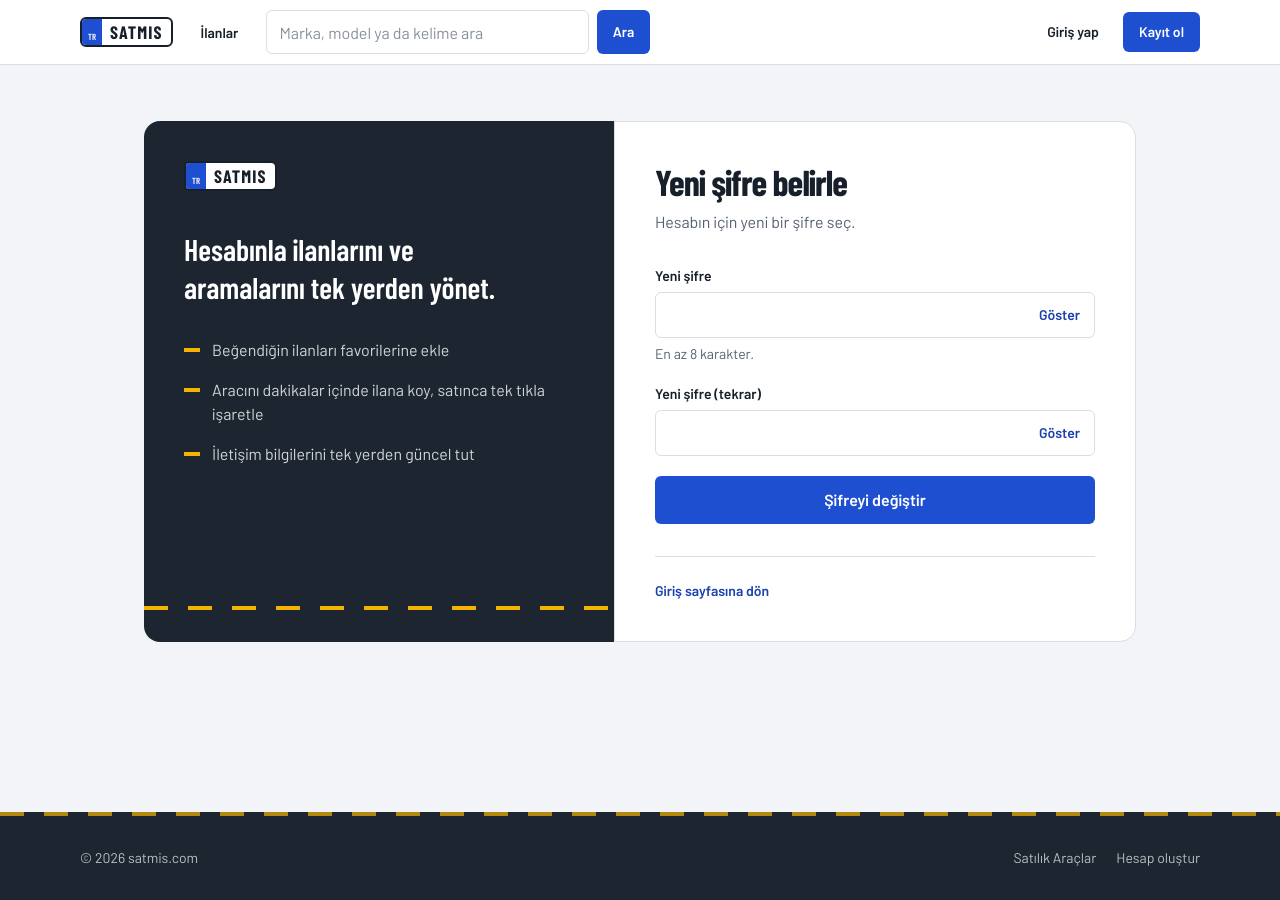
Scenario: ResetPasswordPage › mismatchedPasswords_showErrorWithoutRequest
Type "YeniSifre123" into the password field labelled "Yeni şifre" at (842,315), box [656, 293, 1029, 337]
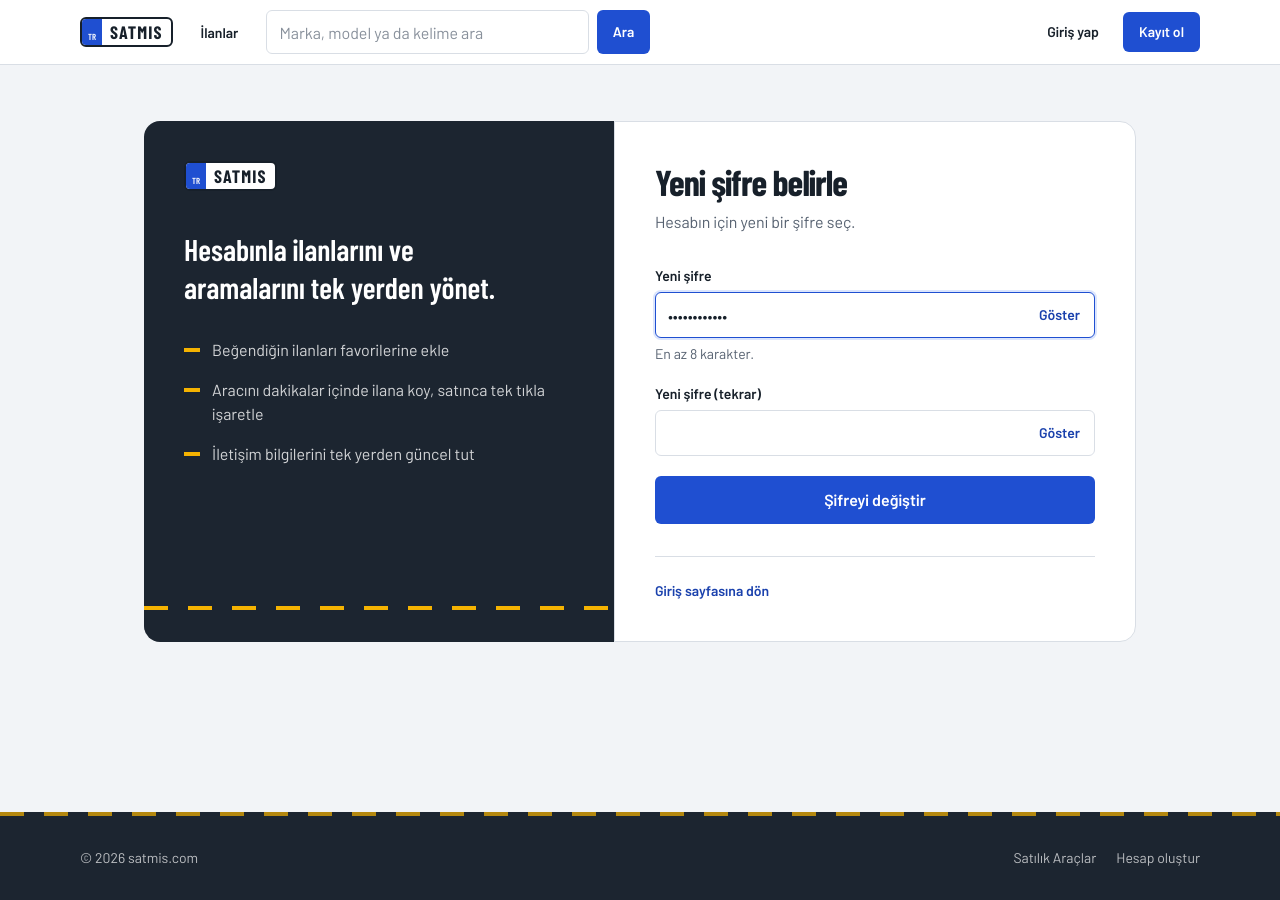
Type "BaskaSifre123" into the password field labelled "Yeni şifre (tekrar)" at (842,433), box [656, 411, 1029, 455]
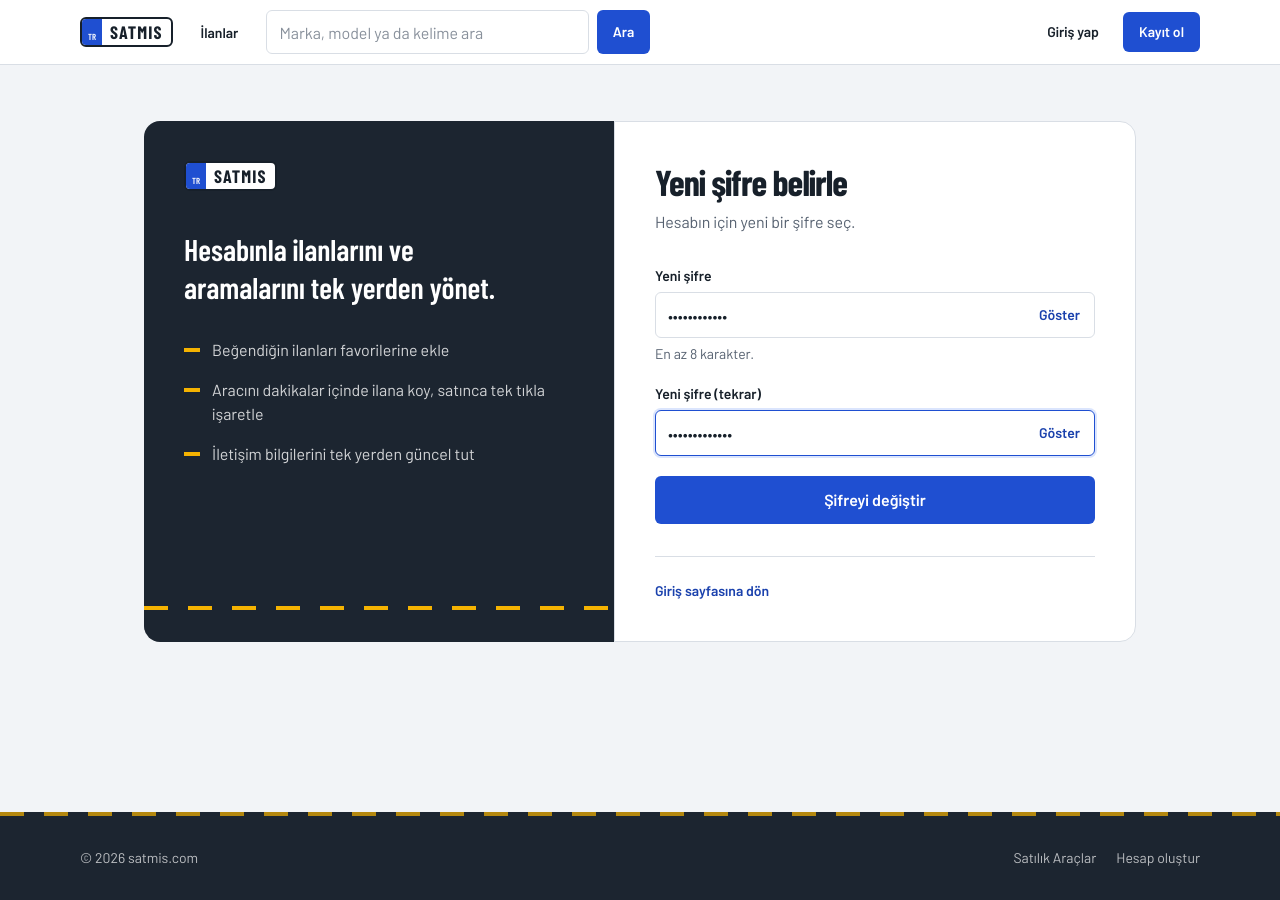
Click the button "Şifreyi değiştir" at (875,500), box [655, 476, 1095, 524]
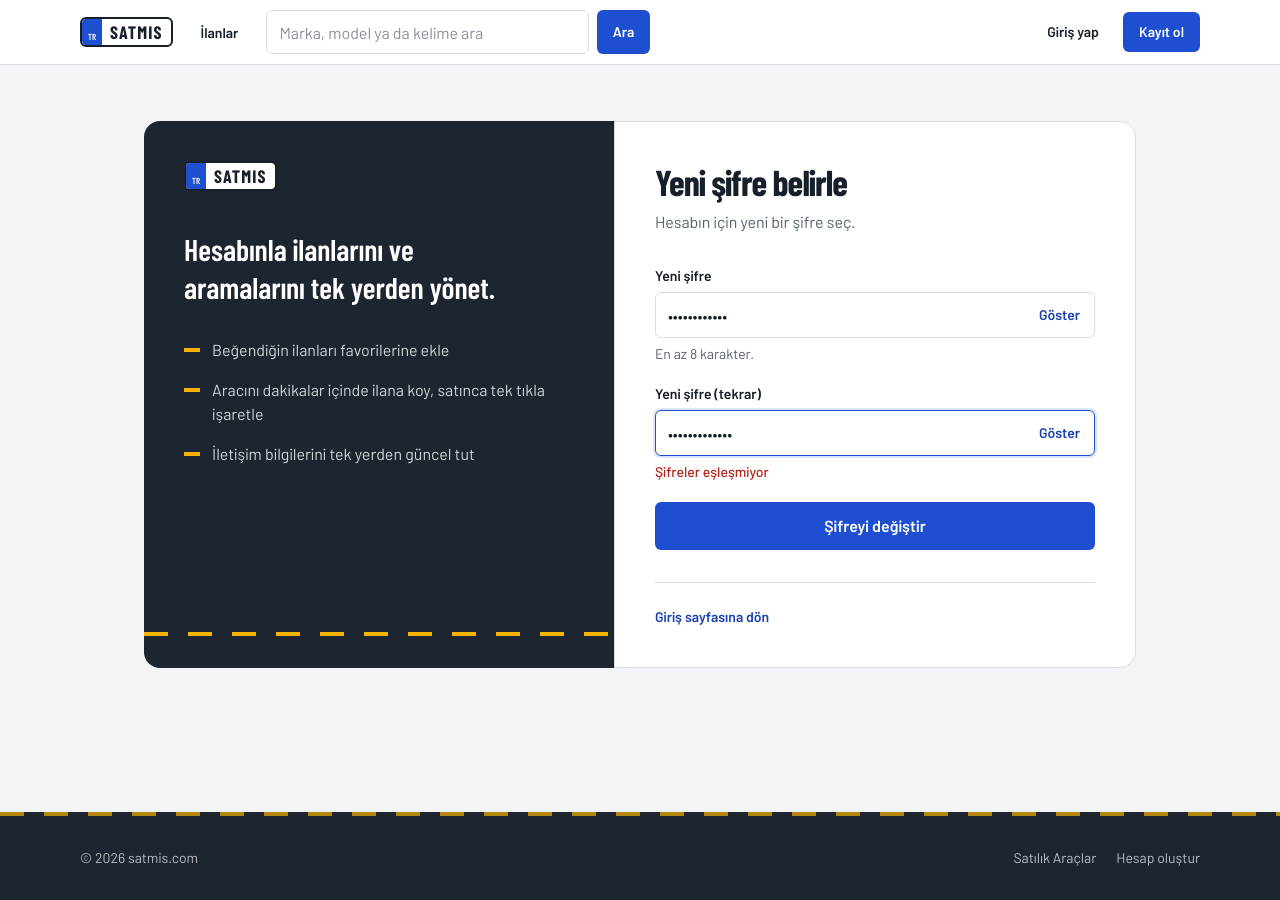
Expected: the text "Şifreler eşleşmiyor" is shown, [655, 463, 769, 480]
